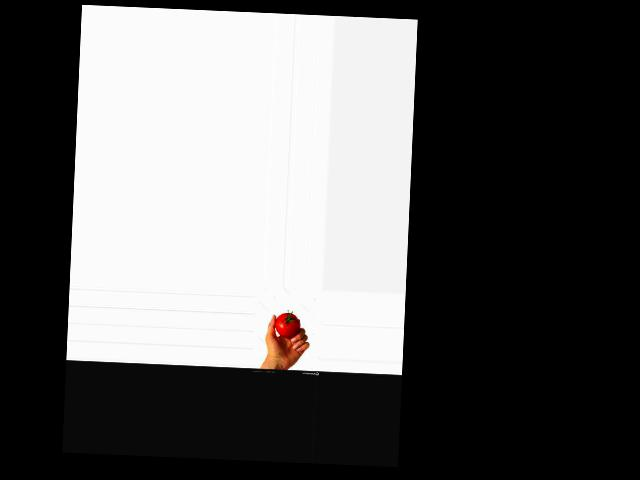tomato: (274, 312, 300, 338)
